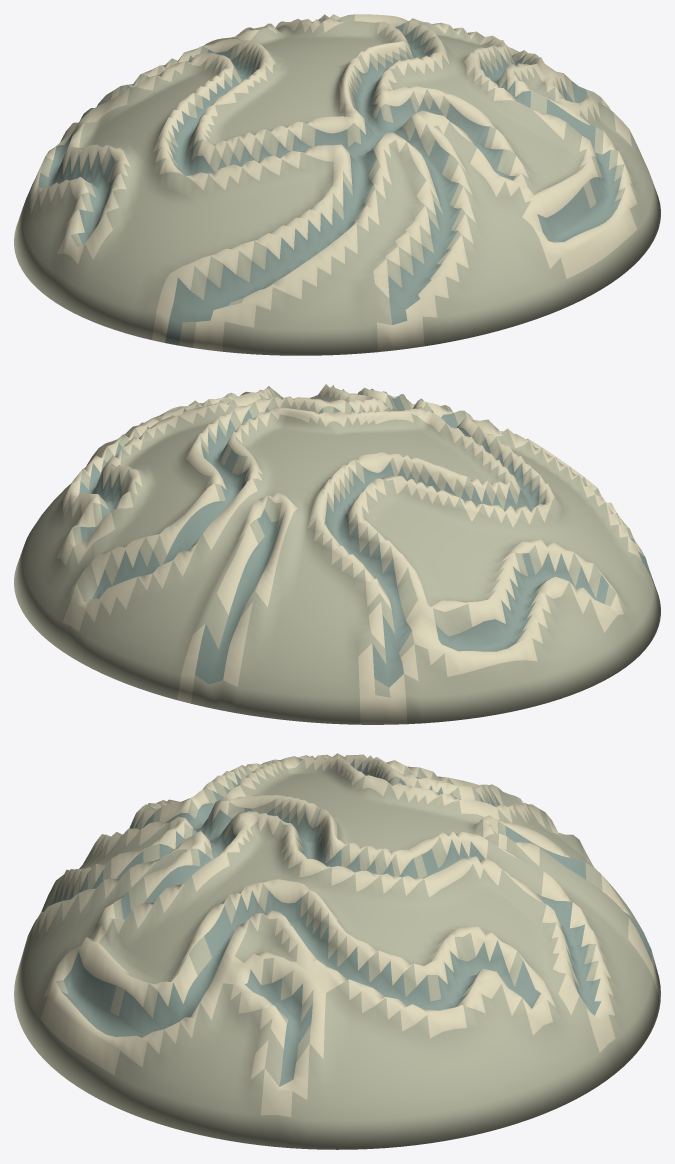
The model's file is meandrina.glb.
The picture shows the model from 3 angles, top to bottom: view 1: azimuth 30°, elevation 25°; view 2: azimuth 150°, elevation 25°; view 3: azimuth 270°, elevation 25°; orthographic projection. The views are drawn at different scales.
Parts seen in each view (by area): view 1: continuous-mound-with-sculpted-meandering-valleys; view 2: continuous-mound-with-sculpted-meandering-valleys; view 3: continuous-mound-with-sculpted-meandering-valleys.
Boxes of the visible parts, bbox=[...] form: continuous-mound-with-sculpted-meandering-valleys: bbox=[14, 14, 660, 355]; continuous-mound-with-sculpted-meandering-valleys: bbox=[14, 384, 660, 724]; continuous-mound-with-sculpted-meandering-valleys: bbox=[14, 753, 660, 1149].
Bounding box in the file's own units: 0.18 × 0.0594 × 0.158.
